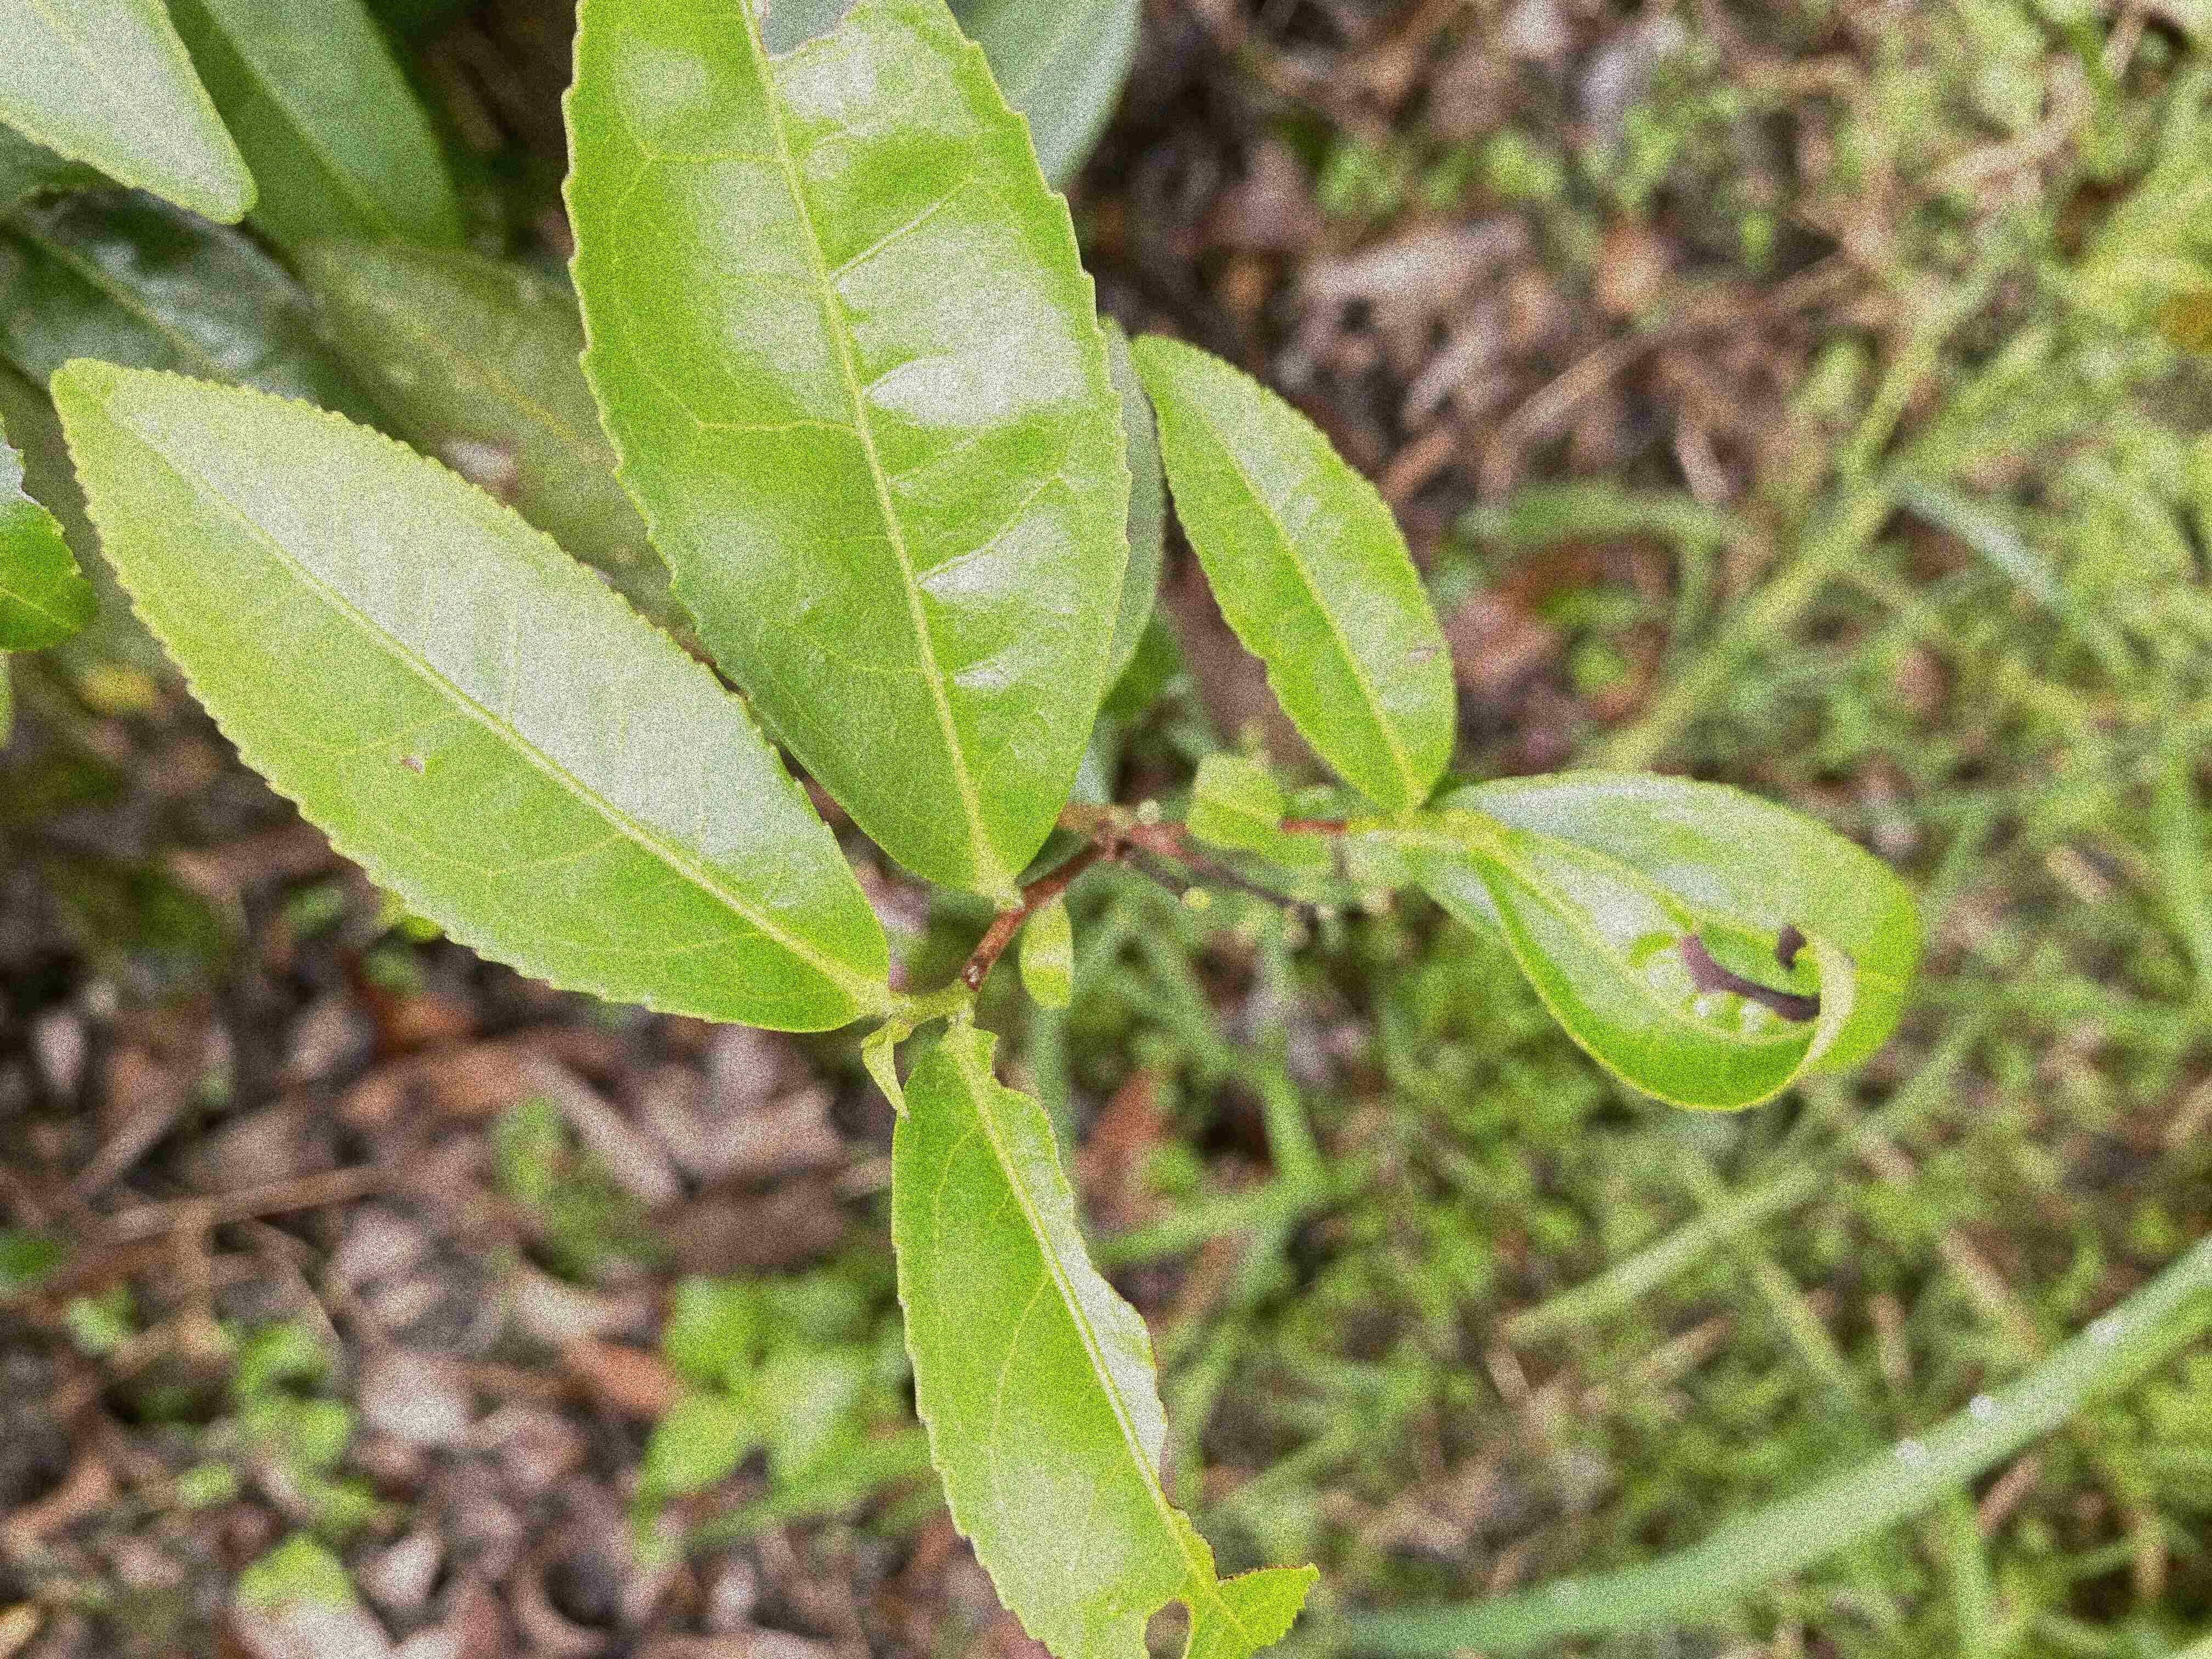chihuo_high: (888, 1021, 1325, 1657)
chihuo_low: (561, 0, 1134, 896)
tanju_high: (1470, 831, 1858, 1112)
tanju_low: (52, 349, 887, 1033), (1129, 331, 1458, 816)
